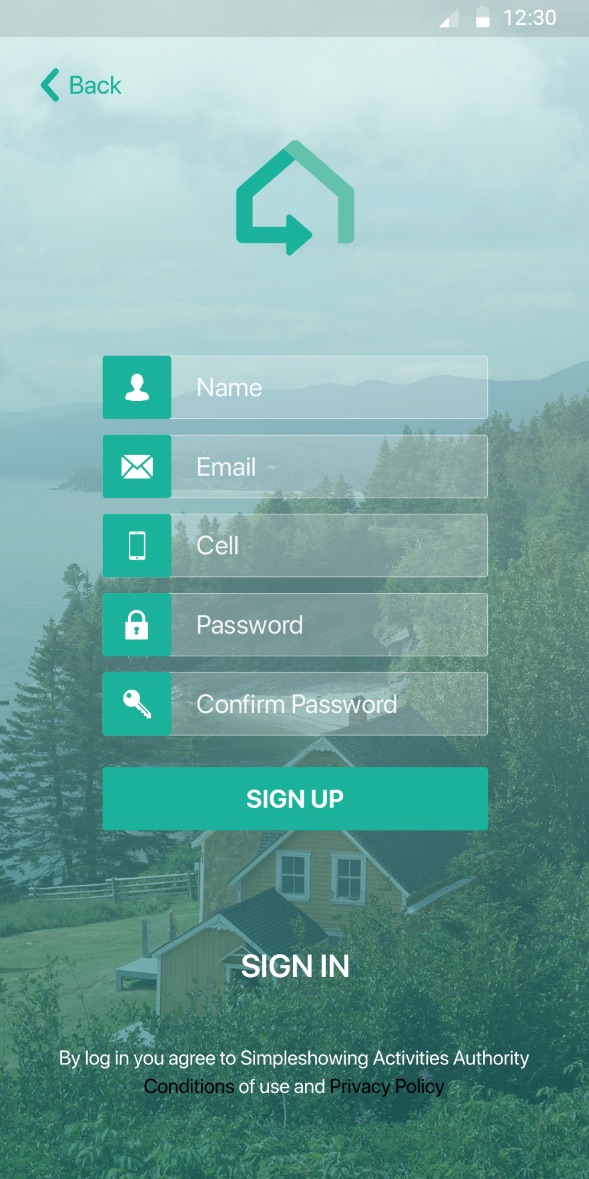BackgroundImage: (1, 38, 589, 1179)
EditText: (102, 672, 488, 737), (102, 593, 489, 657), (102, 356, 488, 420), (103, 514, 488, 578), (103, 436, 488, 499)
Icon: (121, 455, 154, 480), (125, 610, 149, 641), (125, 374, 150, 402), (41, 69, 60, 103)
Image: (236, 140, 355, 257), (123, 690, 152, 720), (129, 531, 147, 561)
Text: (60, 1049, 530, 1098), (197, 694, 397, 715), (242, 953, 350, 979), (198, 615, 303, 635), (198, 377, 263, 398), (198, 457, 256, 477), (71, 76, 123, 95), (197, 536, 239, 556)
TextButton: (103, 767, 489, 831)
UpperTaskBar: (1, 1, 589, 38)
